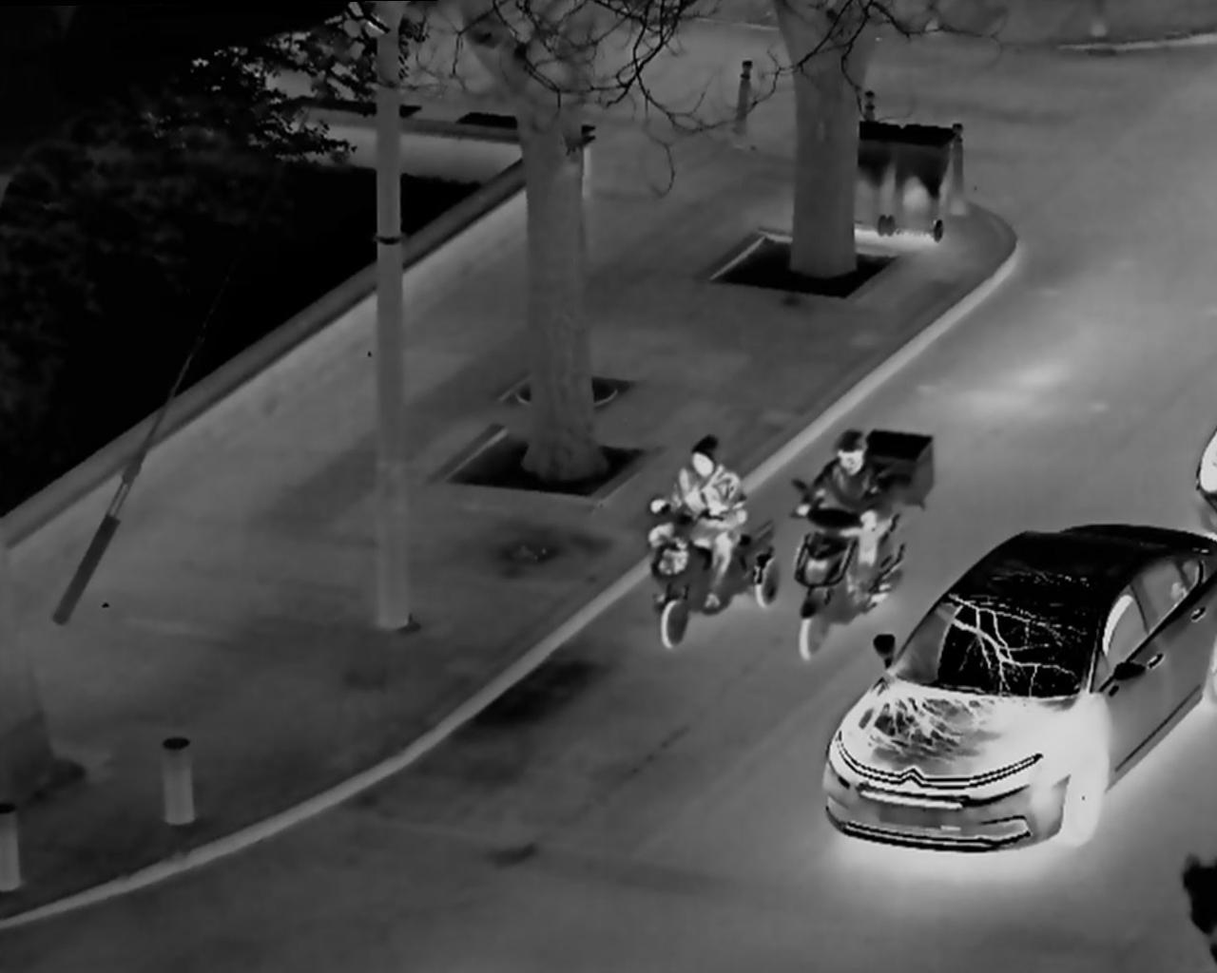person: (790, 421, 899, 625), (645, 426, 747, 634)
